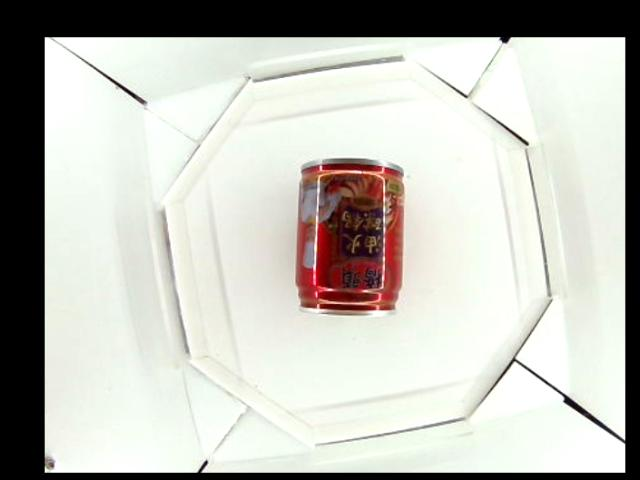Bottle: (295, 159, 402, 317)
